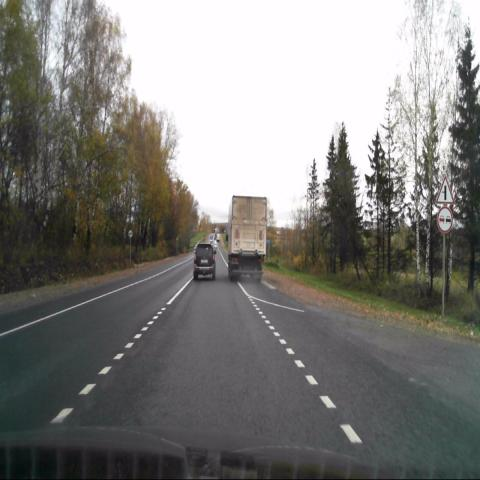2_3_3: (437, 175, 455, 205)
